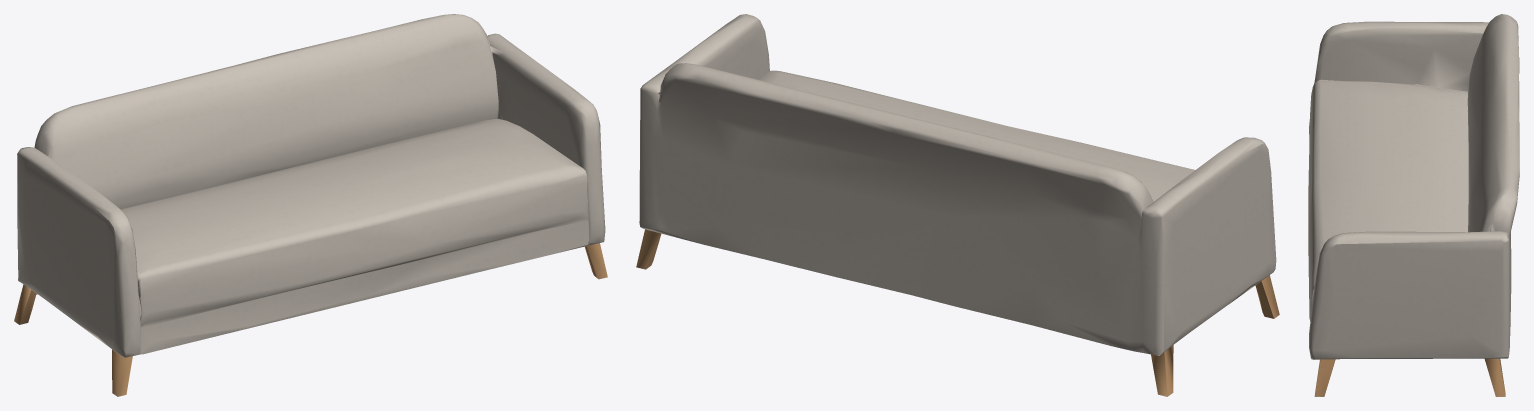
File: Sofa.glb
3 views of the same model, side by side, from view 1: azimuth 30°, elevation 25°; view 2: azimuth 150°, elevation 25°; view 3: azimuth 270°, elevation 25° (orthographic). The views are drawn at different scales.
Visible parts, largest first — view 1: ProcessedMeshNode; view 2: ProcessedMeshNode; view 3: ProcessedMeshNode.
Part boxes in pixels (bbox=[...]): ProcessedMeshNode: bbox=[14, 14, 607, 396]; ProcessedMeshNode: bbox=[636, 14, 1279, 396]; ProcessedMeshNode: bbox=[1308, 14, 1519, 396].
Size of the model in its own units: 1.97 by 0.7695 by 0.7979.
1 material, 1 textured.
